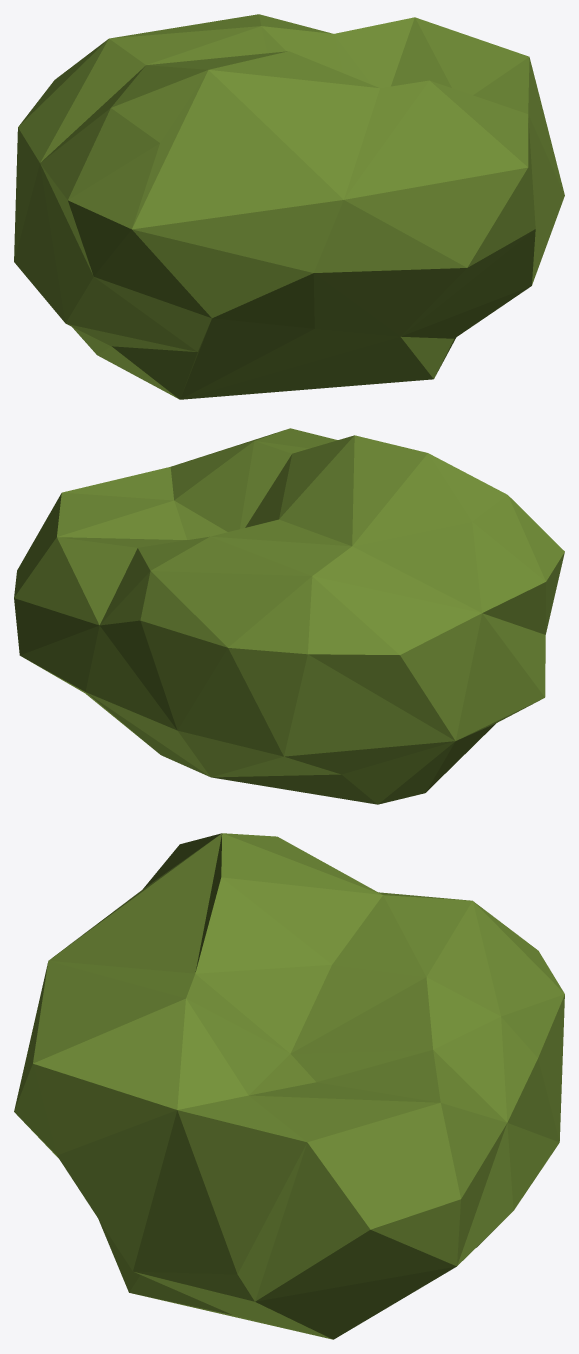
Rendered from bush_1.glb.
The picture shows the model from 3 angles, top to bottom: view 1: azimuth 30°, elevation 25°; view 2: azimuth 150°, elevation 25°; view 3: azimuth 270°, elevation 25°; orthographic projection. The views are drawn at different scales.
Parts seen in each view (by area): view 1: Icosphere; view 2: Icosphere; view 3: Icosphere.
Part boxes in pixels (<box>): Icosphere: <box>14,14,564,399</box>; Icosphere: <box>14,428,564,804</box>; Icosphere: <box>14,833,564,1339</box>.
Bounding box in the file's own units: 1.31 × 0.7871 × 1.09.
